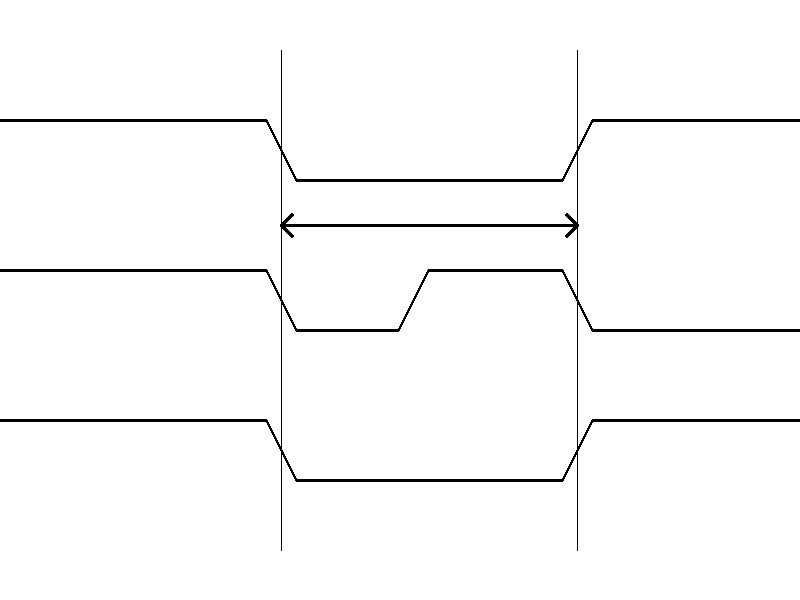double_arrow: (281, 210, 577, 240)
